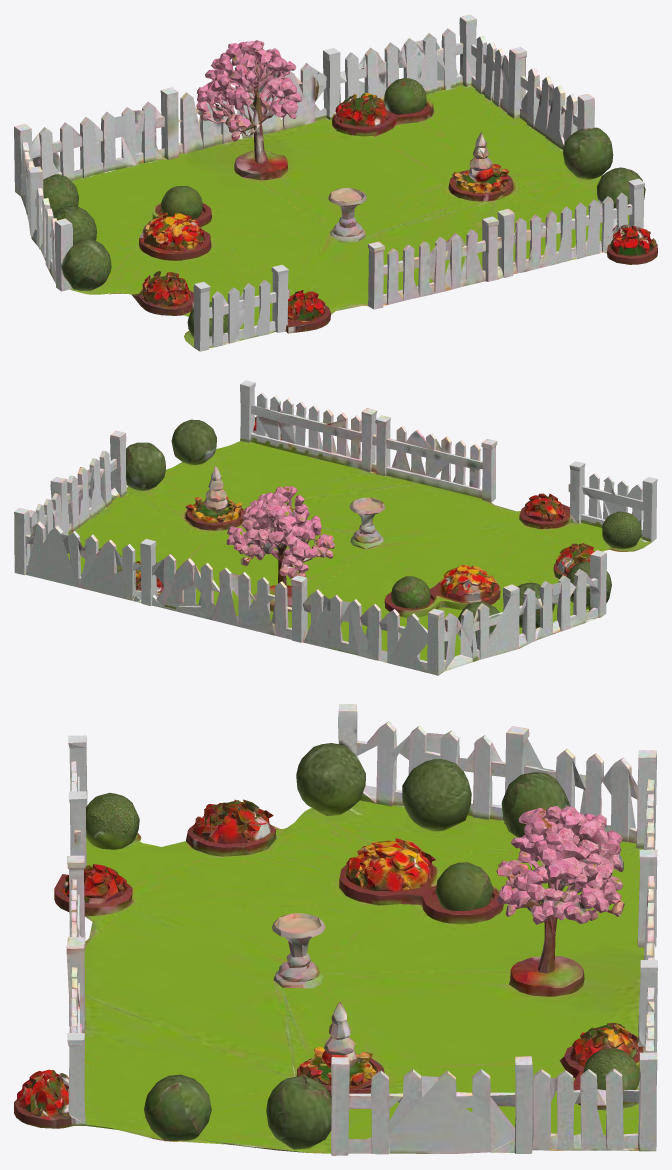
Rendered from ilha-jardim.glb.
3 views of the same model, one above another, from view 1: azimuth 30°, elevation 25°; view 2: azimuth 150°, elevation 25°; view 3: azimuth 270°, elevation 25° (orthographic). The views are drawn at different scales.
Bounding box in the file's own units: 1.9 × 0.4323 × 1.42.
Materials: 1 (1 with a texture image).
